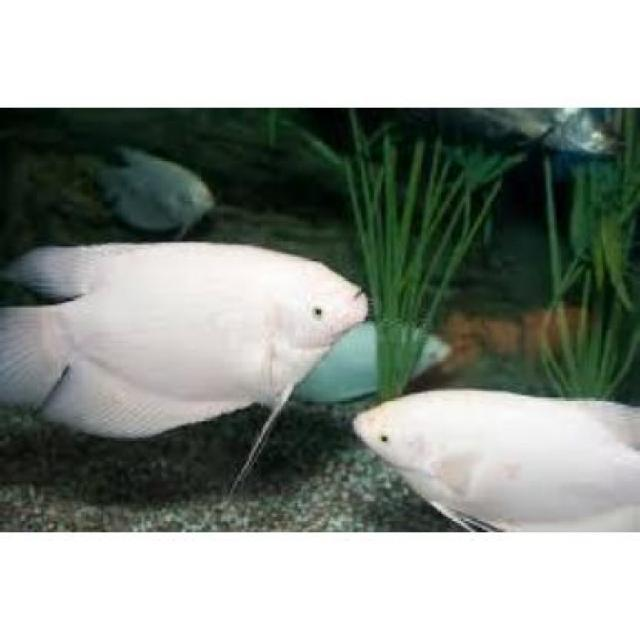gurame: (1, 242, 374, 435), (343, 383, 639, 531)
